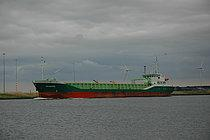Ship: (27, 69, 180, 102)
